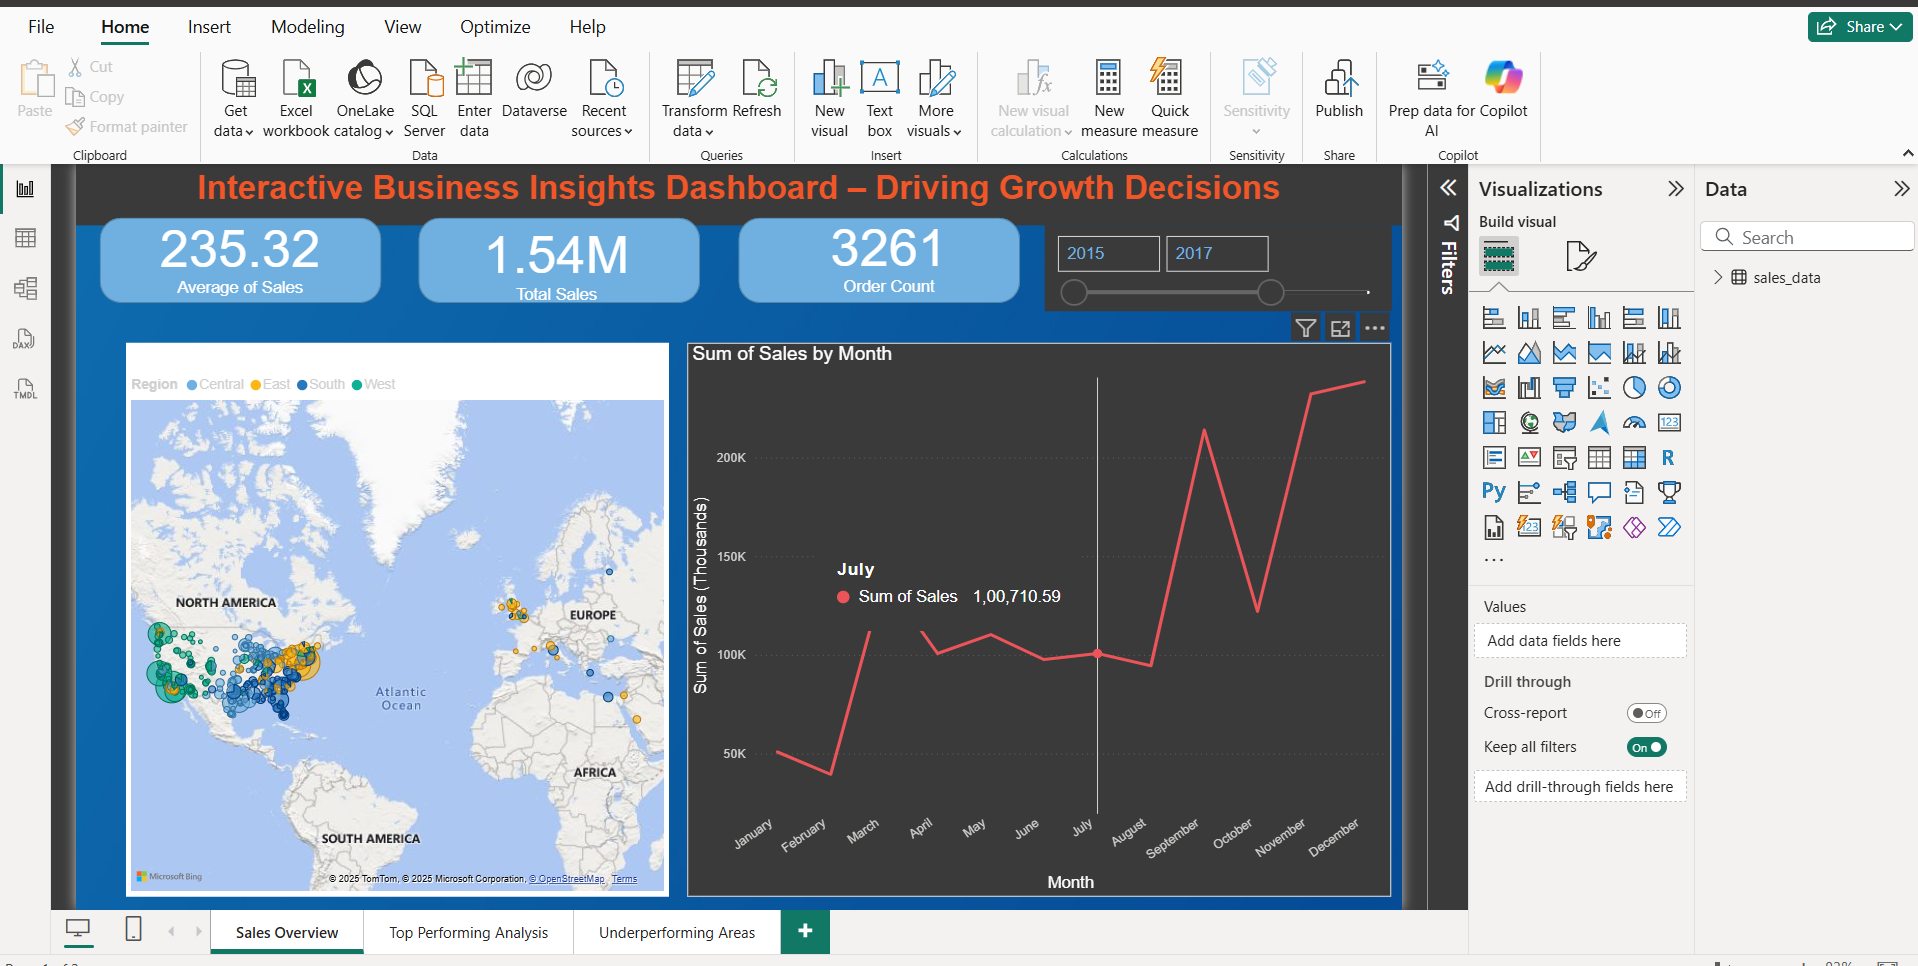

What the dashboard file says about the page in this screenshot:
{"tool":"powerbi","page":{"name":"Sales Overview","canvas":[1280,720],"ordinal":0},"visuals":[{"type":"lineChart","fields":{"Category":["sales_data.Order Date.Variation.Date Hierarchy.Month"],"Y":["Sum(sales_data.Sales)"]},"box":[589.9,172.5,679.2,534.5],"z":0},{"type":"map","fields":{"Series":["sales_data.Region"],"Size":["sales_data.Total Sales"],"Category":["sales_data.City"]},"box":[48.3,172.5,523.6,534.5],"z":1000},{"type":"slicer","title":"Year","fields":{"Values":["sales_data.Order Date.Variation.Date Hierarchy.Year"]},"box":[935,59,334.3,82.2],"z":4000},{"type":"textbox","box":[0,0,1280,59],"z":5000},{"type":"shape","box":[23.2,51.8,271.7,82.2],"z":6000},{"type":"shape","box":[640,51.8,271.7,82.2],"z":8000},{"type":"card","fields":{"Values":["Avg(sales_data.Sales)"]},"box":[5.4,37.5,307.5,96.5],"z":8500},{"type":"shape","box":[330.7,51.8,271.7,82.2],"z":9000},{"type":"card","fields":{"Values":["sales_data.Total Sales"]},"box":[310.1,44.6,307.6,96.5],"z":9500},{"type":"card","fields":{"Values":["sales_data.Order Count"]},"box":[639.4,37.4,290.8,96.5],"z":10000}]}

Visuals, with their boxes on the page's 1280x720 design canvas (x1, y1, x2, y2). These are canvas units, not pixel positions in the 1918x966 screenshot, which may show the page scaled, cropped or inside an application window:
lineChart - sales_data.Order Date.Variation.Date Hierarchy.Month x Sum(sales_data.Sales): (590, 172, 1269, 707)
map - sales_data.Region x sales_data.Total Sales: (48, 172, 572, 707)
"Year" slicer: (935, 59, 1269, 141)
textbox: (0, 0, 1280, 59)
shape: (23, 52, 295, 134)
shape: (640, 52, 912, 134)
card - Avg(sales_data.Sales): (5, 38, 313, 134)
shape: (331, 52, 602, 134)
card - sales_data.Total Sales: (310, 45, 618, 141)
card - sales_data.Order Count: (639, 37, 930, 134)
